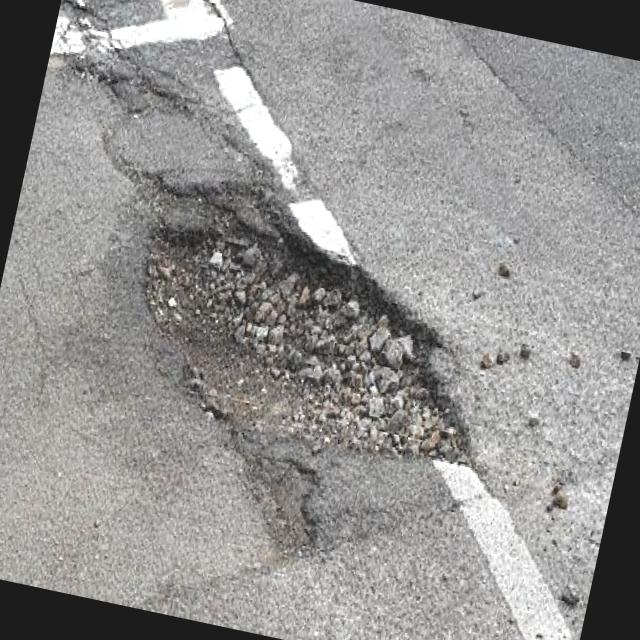Lubang: (146, 184, 467, 463), (73, 48, 198, 115), (247, 439, 318, 555)
